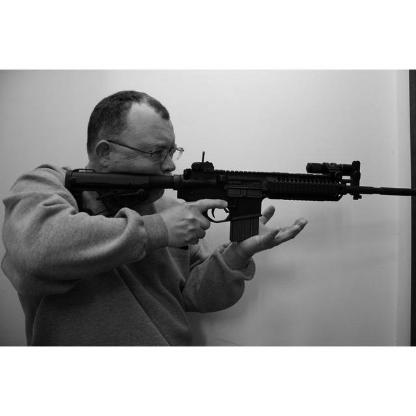gun: (63, 158, 412, 247)
